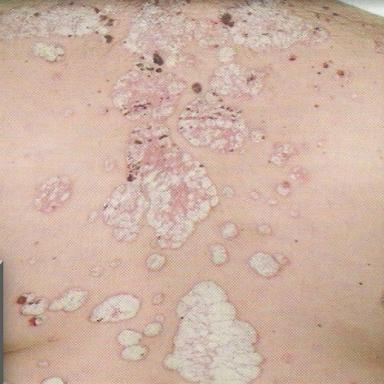Psoriasis: (114, 2, 325, 150), (100, 123, 218, 248), (164, 281, 263, 383), (0, 2, 118, 43), (17, 289, 88, 326), (90, 294, 139, 322), (35, 177, 71, 212), (248, 252, 289, 277), (118, 329, 147, 361), (31, 42, 64, 62), (269, 143, 295, 165), (143, 314, 164, 337), (210, 244, 227, 265), (146, 254, 167, 270), (221, 222, 238, 240), (289, 167, 309, 181), (275, 181, 291, 196), (42, 376, 65, 384), (107, 257, 121, 268), (152, 293, 164, 305), (90, 266, 103, 277), (257, 224, 271, 234), (222, 186, 233, 198), (250, 188, 260, 201), (37, 360, 50, 368), (267, 197, 278, 205), (289, 211, 299, 218)
